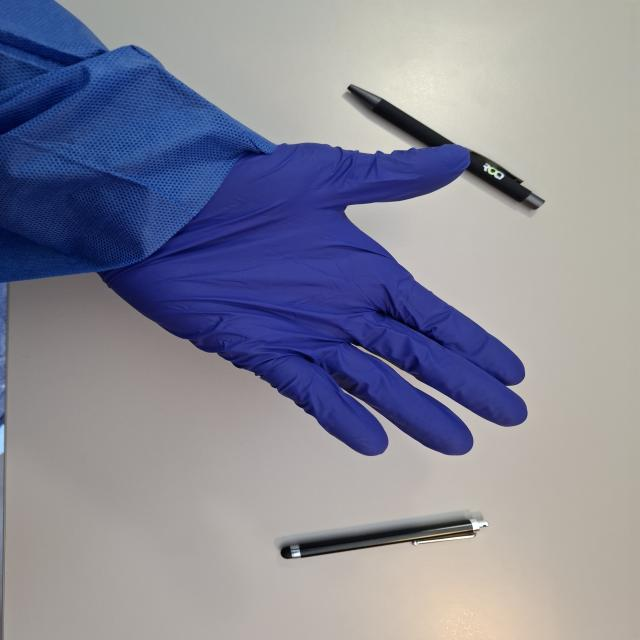glove_on: (94, 130, 532, 457)
